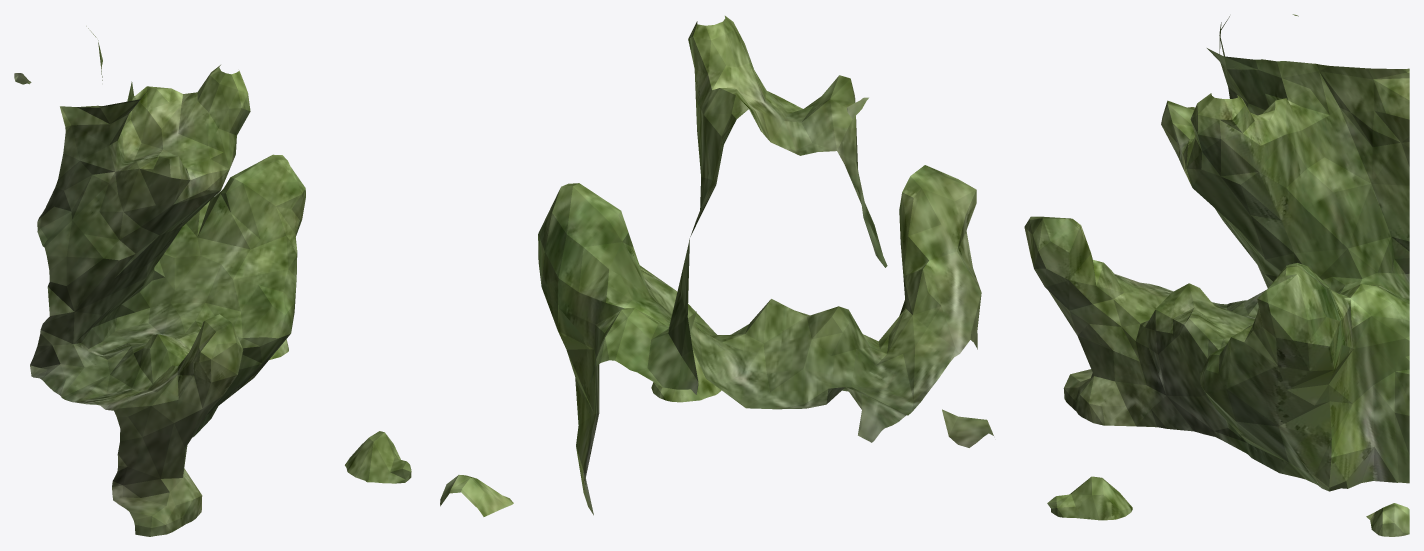
3 views of the same model, side by side, from view 1: azimuth 30°, elevation 25°; view 2: azimuth 150°, elevation 25°; view 3: azimuth 270°, elevation 25° (orthographic). The views are drawn at different scales.
Bounding box in the file's own units: 2.53 × 2.95 × 2.76.
4 materials, 4 textured.
